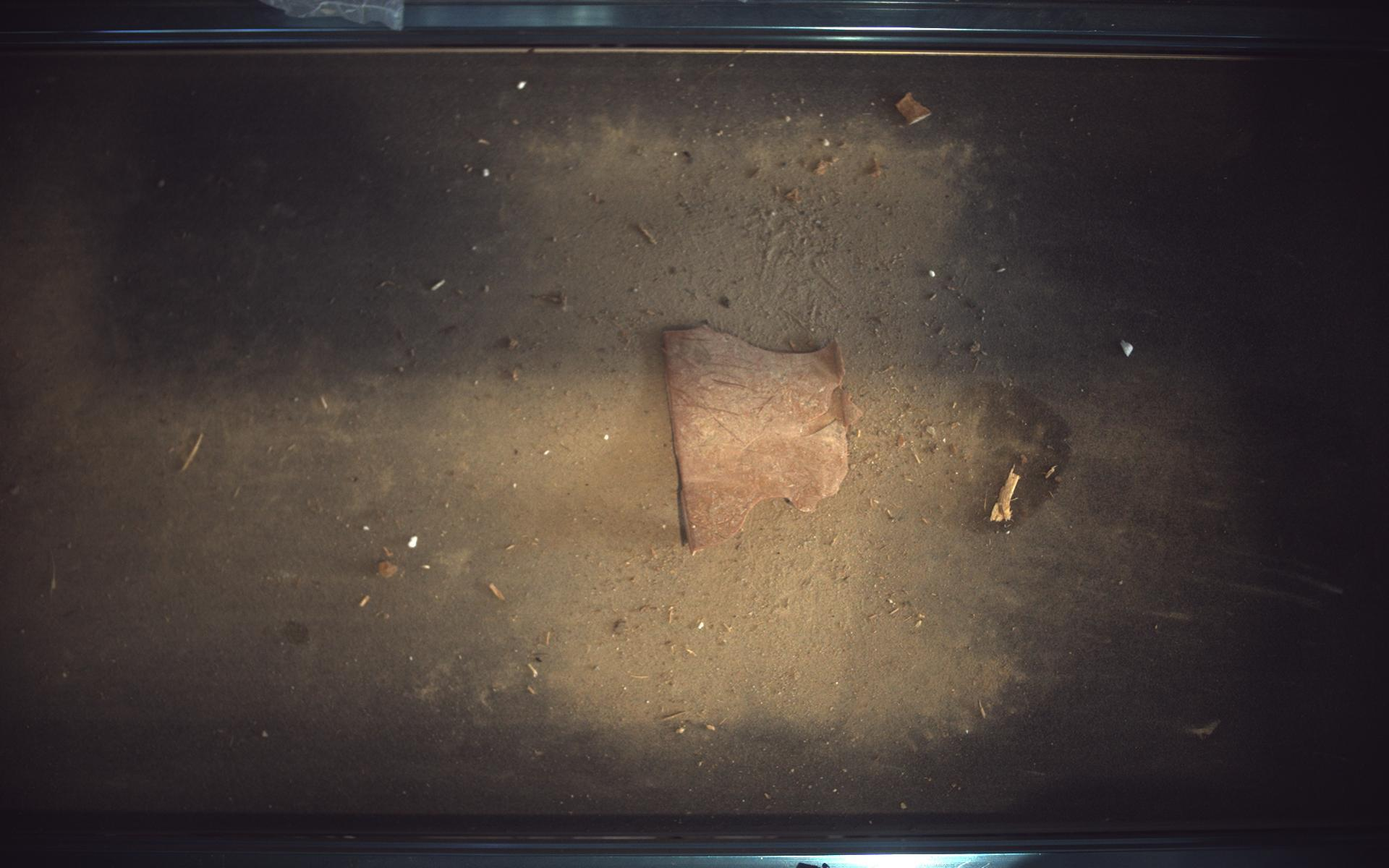general_w: (665, 325, 862, 554)
